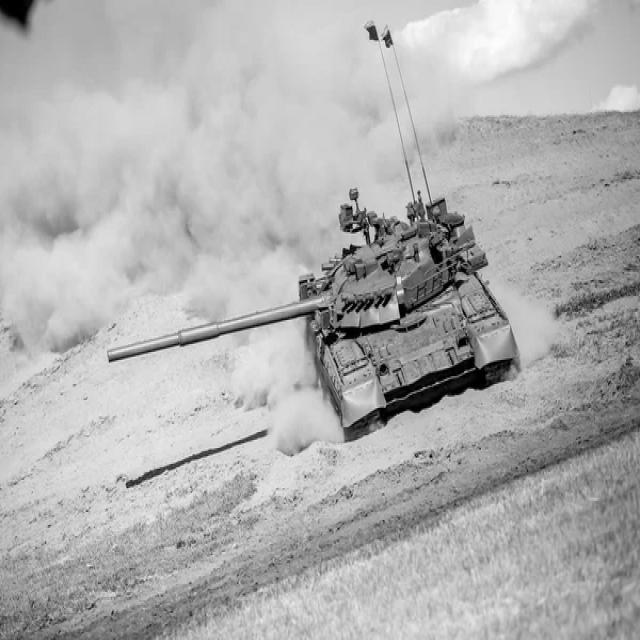Tank: (106, 180, 520, 446)
